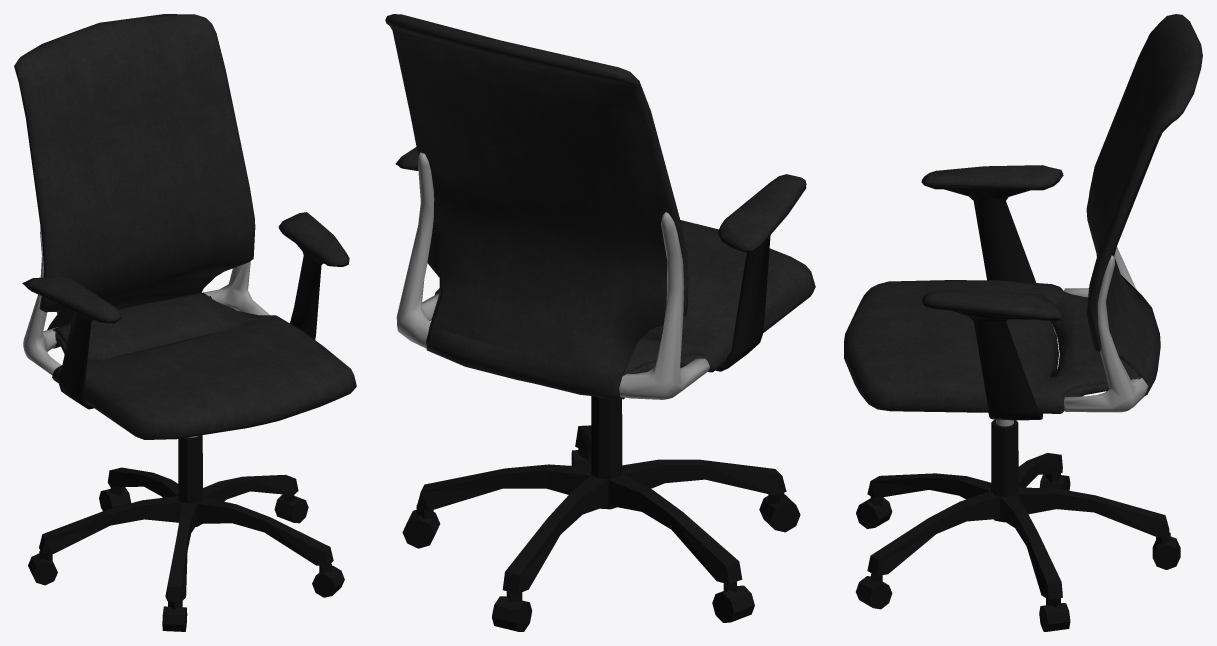
File: Chair 2.FBX
3 views of the same model, side by side, from view 1: azimuth 30°, elevation 25°; view 2: azimuth 150°, elevation 25°; view 3: azimuth 270°, elevation 25° (orthographic). The views are drawn at different scales.
Parts seen in each view (by area): view 1: chair 2; view 2: chair 2; view 3: chair 2.
Part boxes in pixels (x1,y1,x2,y2): chair 2: [14, 14, 356, 631]; chair 2: [385, 14, 815, 631]; chair 2: [844, 14, 1202, 631].
Size of the model in its own units: 65.94 by 105 by 66.9.
Materials: 3 (2 with a texture image).
